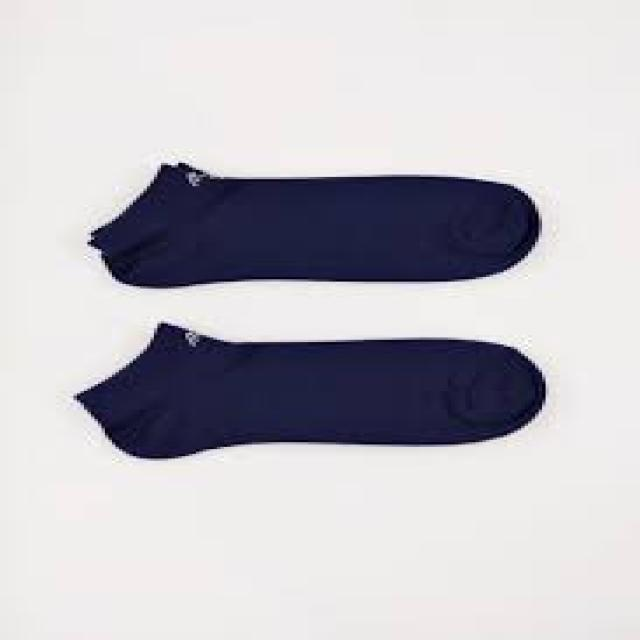sock: (70, 319, 546, 458), (84, 161, 542, 286)
